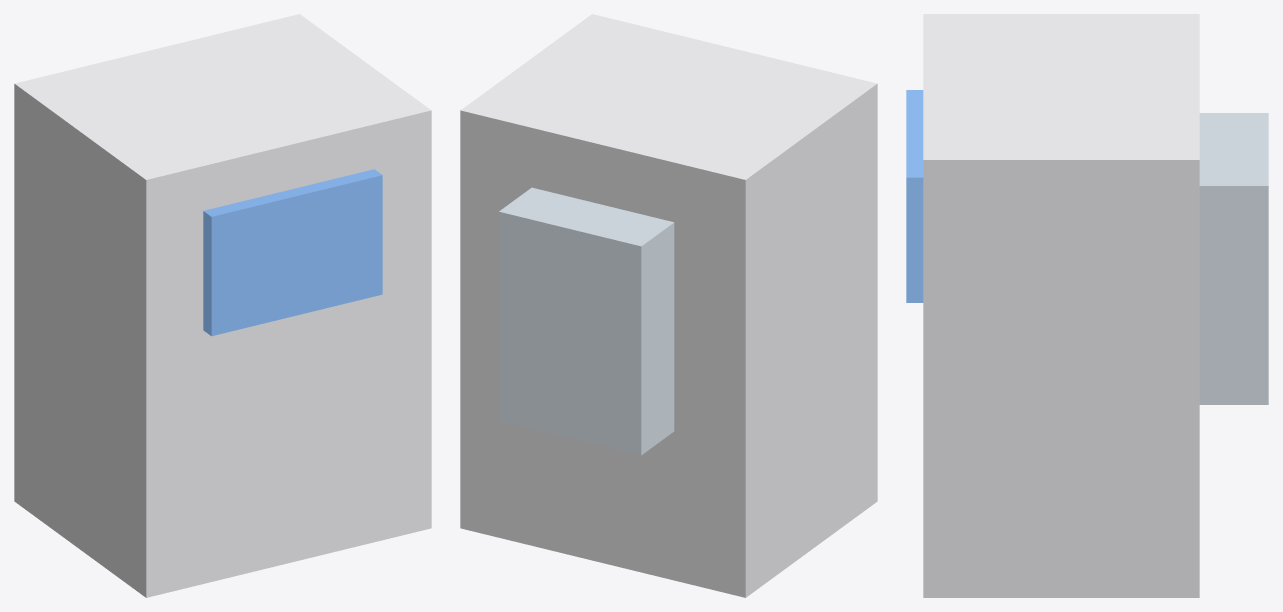
File: astronaut.gltf
3 renders of one model, left to right at view 1: azimuth 30°, elevation 25°; view 2: azimuth 150°, elevation 25°; view 3: azimuth 270°, elevation 25°, orthographic. The views are drawn at different scales.
Visible parts, largest first — view 1: Suit, Visor; view 2: Suit, Backpack; view 3: Suit, Backpack, Visor.
Boxes of the visible parts, x1,y1,x2,y2 form: Suit: (14, 14, 431, 597); Visor: (203, 169, 382, 336); Suit: (460, 14, 877, 597); Backpack: (499, 187, 674, 455); Suit: (923, 14, 1199, 597); Backpack: (1199, 113, 1268, 404); Visor: (906, 90, 923, 302).
Size of the model in its own units: 1 by 1.4 by 1.05.
